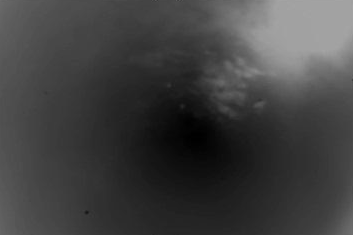dim target: (165, 82, 173, 89), (180, 103, 186, 109)
